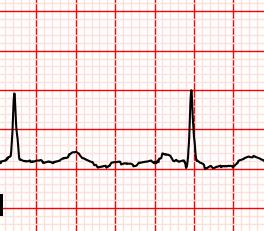LVH: (49, 147, 106, 171)
